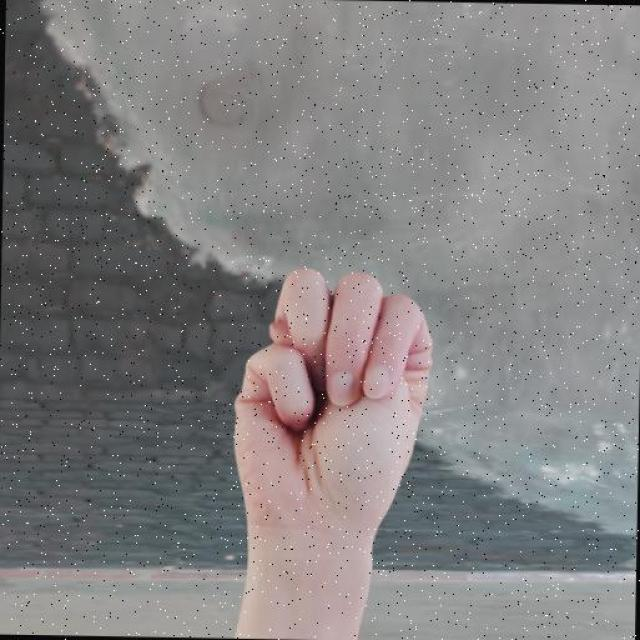M: (227, 263, 438, 546)
